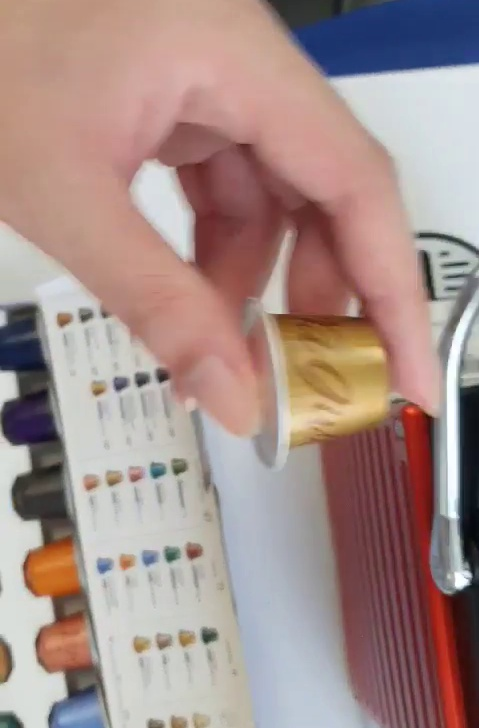capsule_9: (237, 300, 396, 463)
